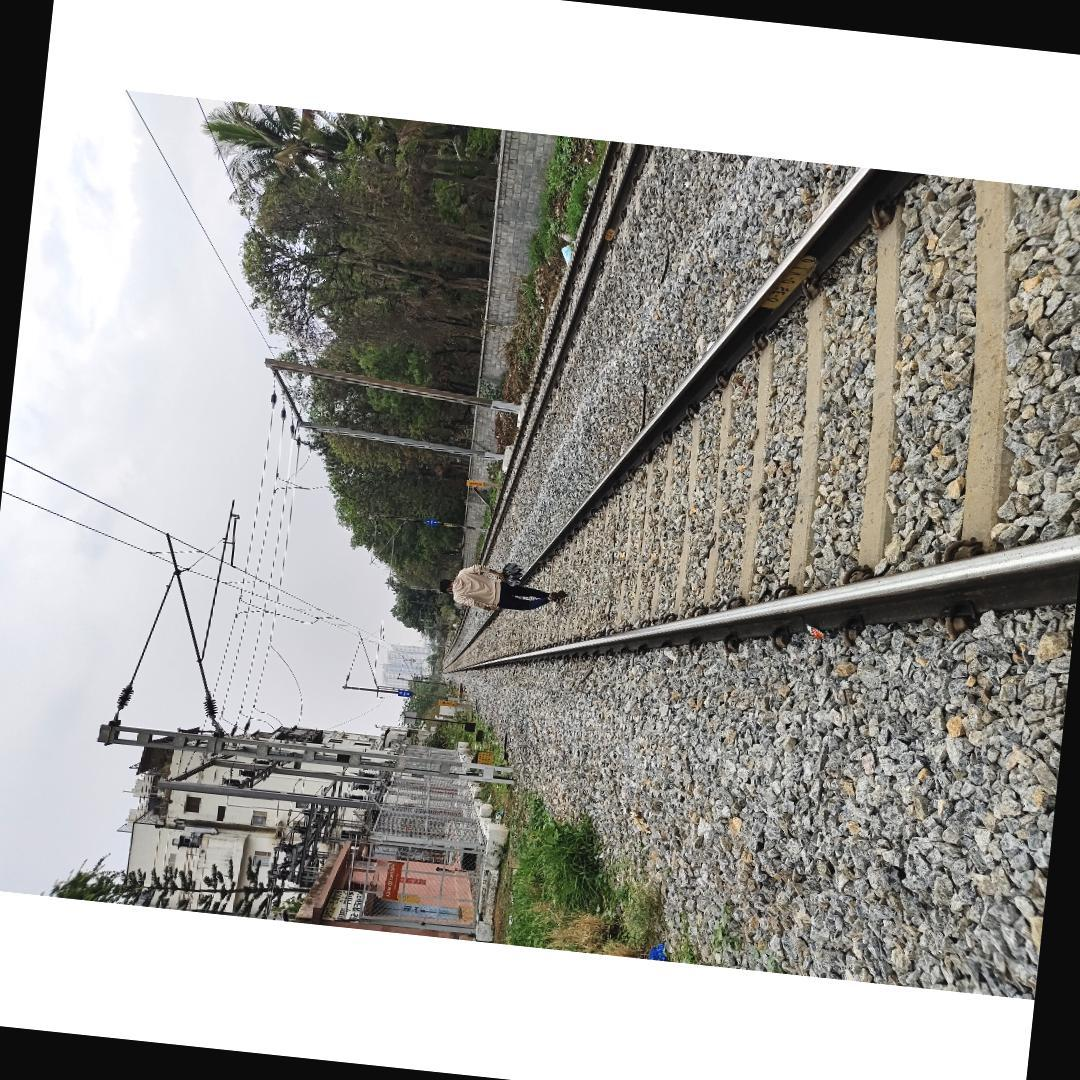standing: (435, 558, 568, 620)
track: (435, 160, 1080, 687)
